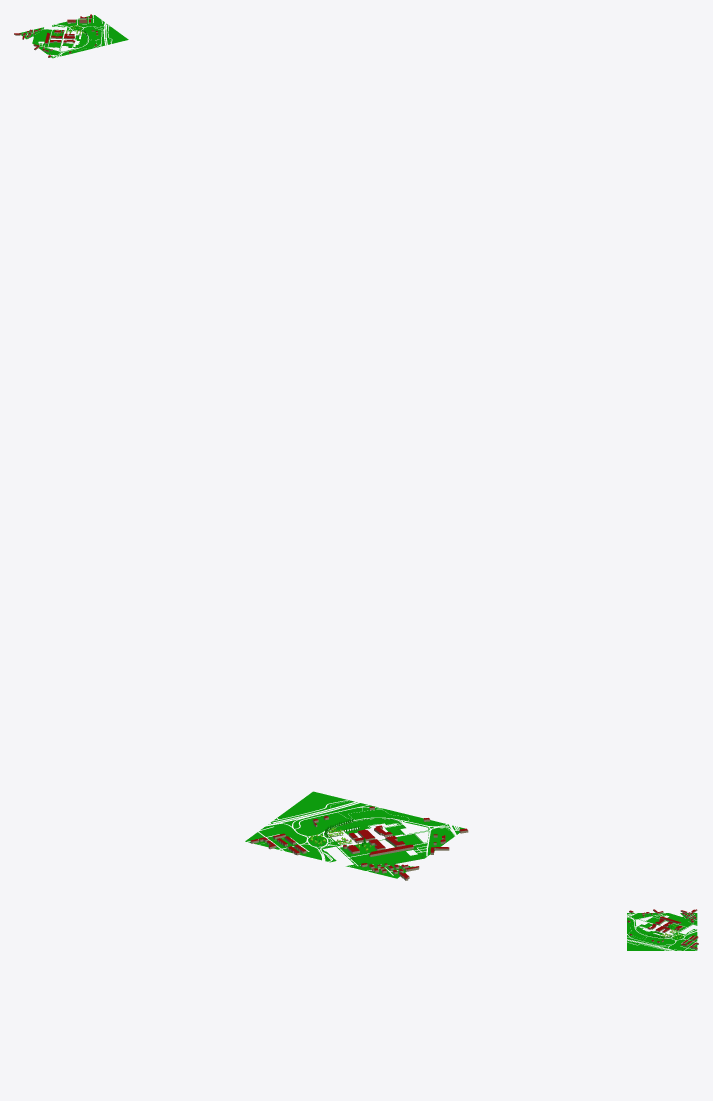
The model's file is ingmodel.fbx.
3 renders of one model, top to bottom at view 1: azimuth 30°, elevation 25°; view 2: azimuth 150°, elevation 25°; view 3: azimuth 270°, elevation 25°, orthographic. The views are drawn at different scales.
Visible parts, largest first — view 1: grass, buildings; view 2: grass, buildings; view 3: grass, buildings.
Boxes of the visible parts, <box> form: grass: <box>19,15,128,58</box>; buildings: <box>14,14,98,57</box>; grass: <box>245,791,464,878</box>; buildings: <box>250,806,468,880</box>; grass: <box>627,913,697,950</box>; buildings: <box>627,909,698,949</box>.
Size of the model in its own units: 249797 by 2280 by 410177.
